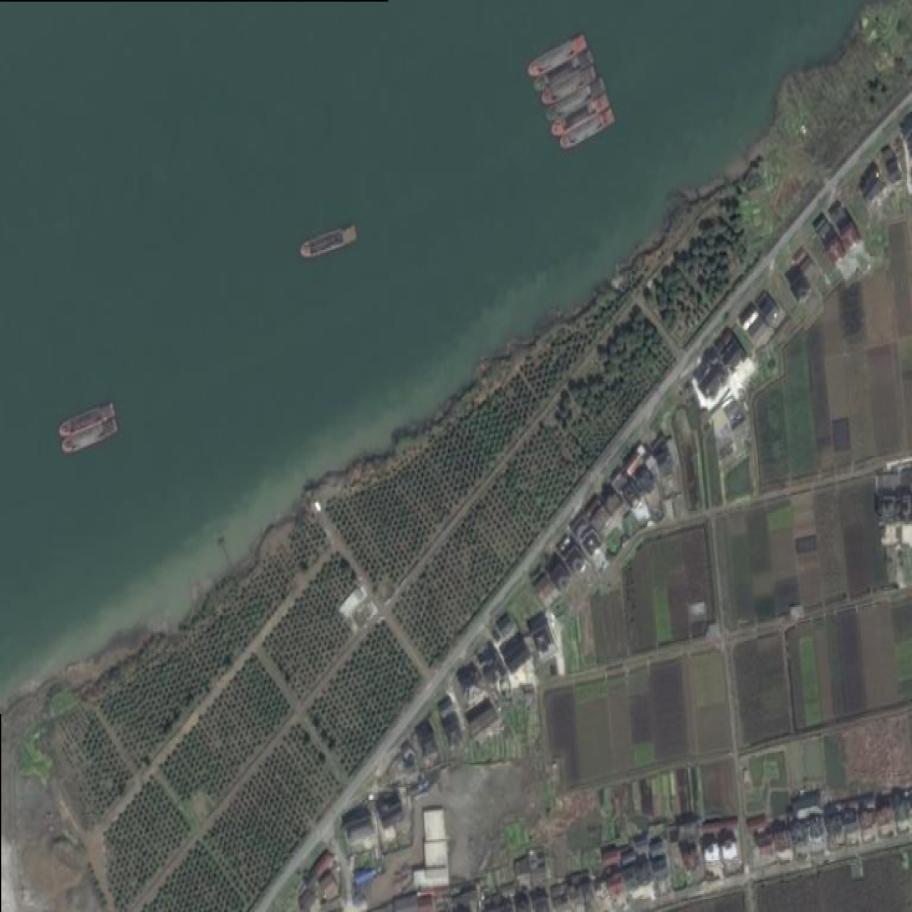ship: (545, 76, 611, 125), (548, 91, 612, 140), (538, 63, 602, 108), (527, 34, 590, 78), (533, 49, 597, 92), (58, 417, 121, 456), (560, 109, 618, 149), (57, 402, 118, 438), (299, 227, 359, 260)
